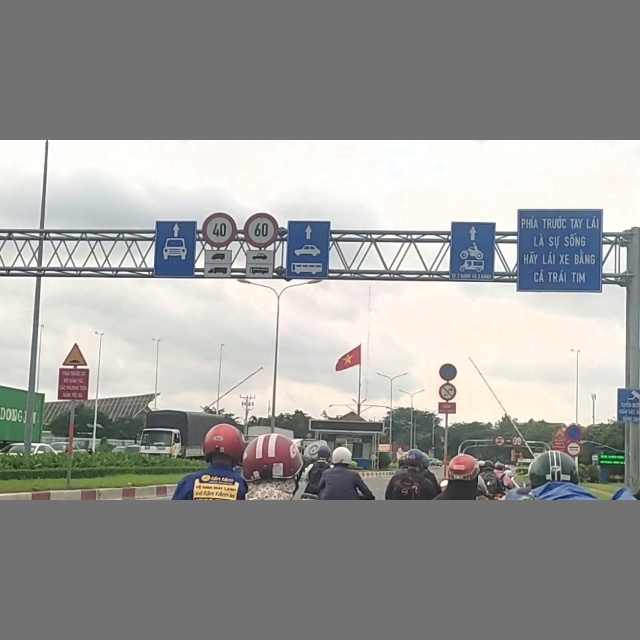Camera: (616, 388, 640, 423)
P.107: (493, 435, 505, 446), (511, 435, 523, 446)
P.111: (439, 383, 457, 401)
P.127*40: (202, 213, 237, 247)
P.127*60: (245, 213, 279, 247)
P.129: (565, 441, 582, 455)
P.130: (439, 363, 458, 381)
P.131a: (565, 425, 583, 441)
W.221b: (60, 342, 89, 366), (554, 427, 565, 437)
